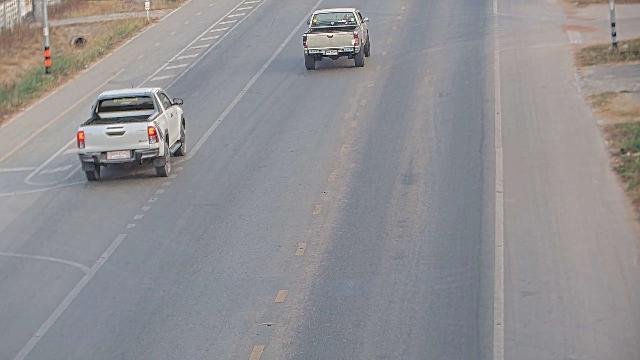pickup-truck: (76, 86, 187, 181), (302, 7, 371, 70)
